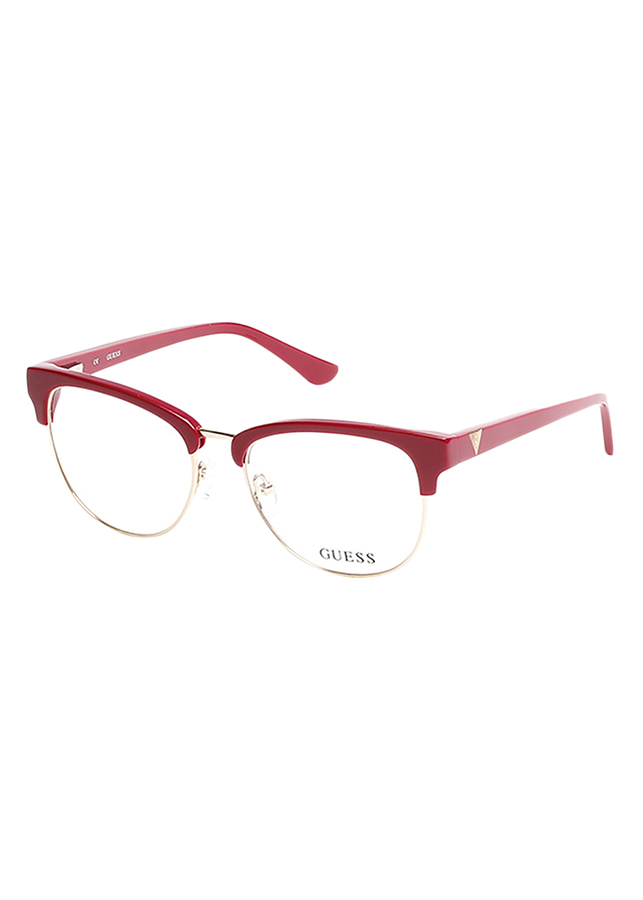Guess: (313, 539, 383, 575)
